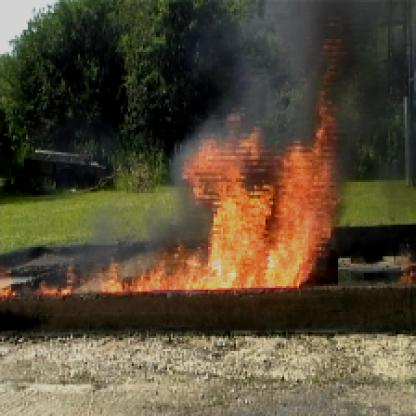Fire: (95, 87, 349, 296)
Smoke: (253, 2, 414, 119)
